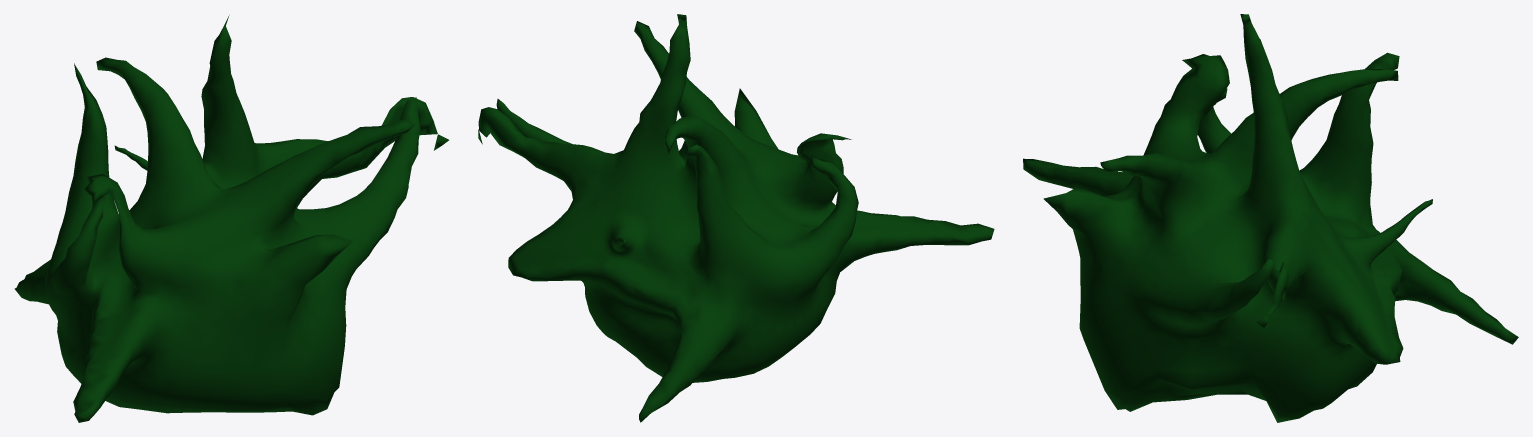
The model's file is jump_cthulhu_005.obj.
3 views of the same model, side by side, from view 1: azimuth 30°, elevation 25°; view 2: azimuth 150°, elevation 25°; view 3: azimuth 270°, elevation 25° (orthographic). The views are drawn at different scales.
Parts seen in each view (by area): view 1: Cube; view 2: Cube; view 3: Cube.
Part boxes in pixels (x1=…): Cube: x1=14, y1=15, x2=448, y2=422; Cube: x1=478, y1=14, x2=994, y2=422; Cube: x1=1023, y1=14, x2=1518, y2=422.
Bounding box in the file's own units: 1.28 × 0.9463 × 1.08.
